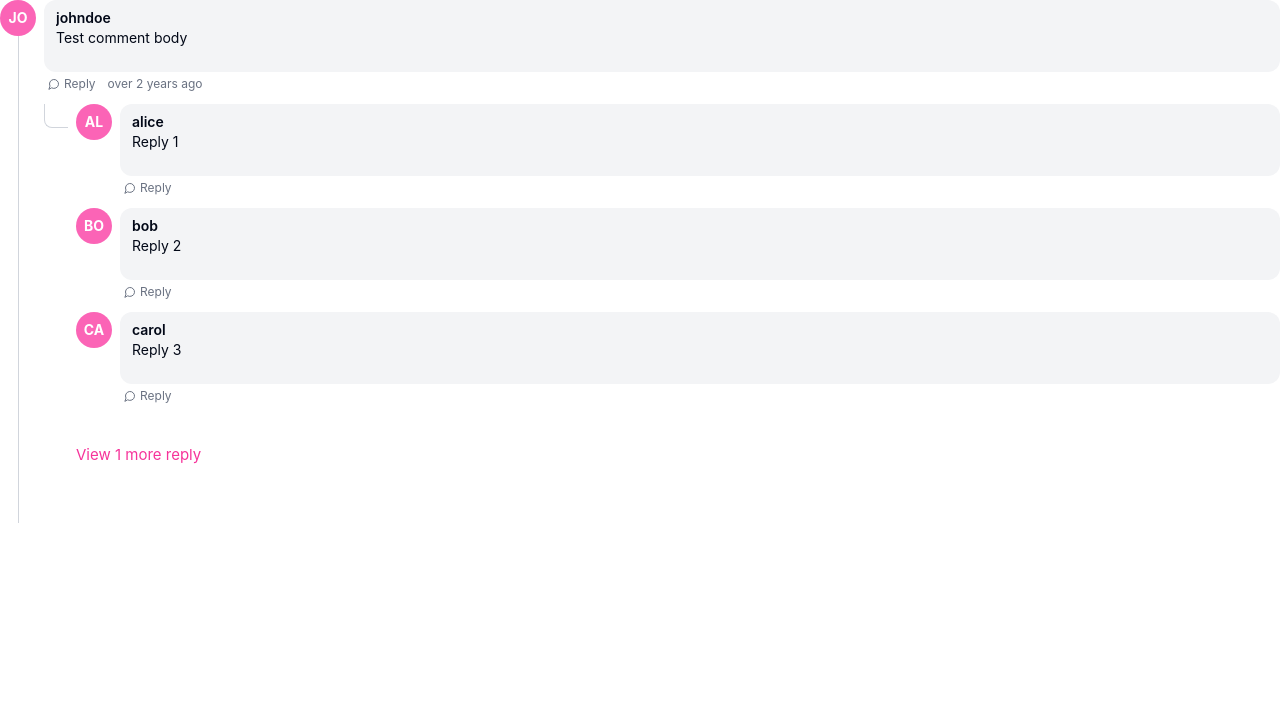
CommentItem › children replies › shows all replies after "View more" is clicked
Click the button "View 1 more reply".
click(139, 455)  # box [76,424,201,486]
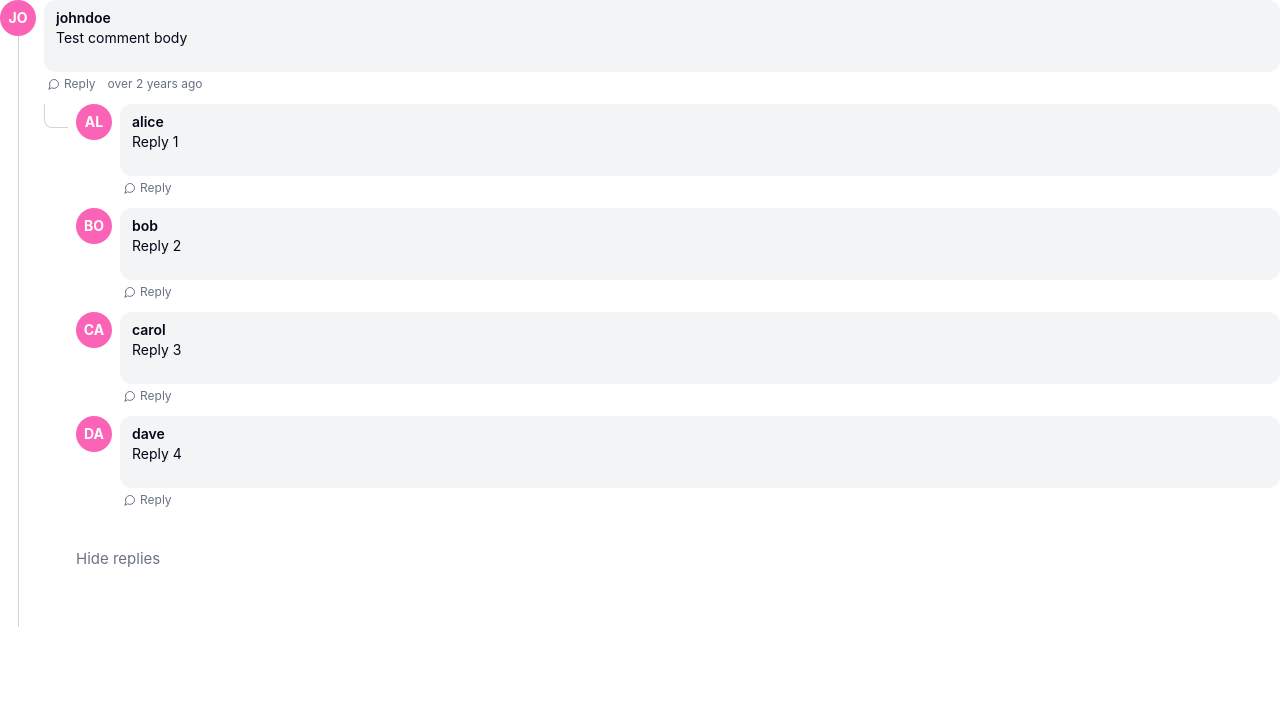
expect the text "Reply 4" is shown: met, box [132,445,182,462]
